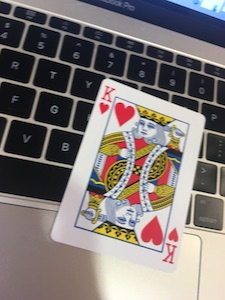KingOfHearts: (44, 76, 207, 272)
